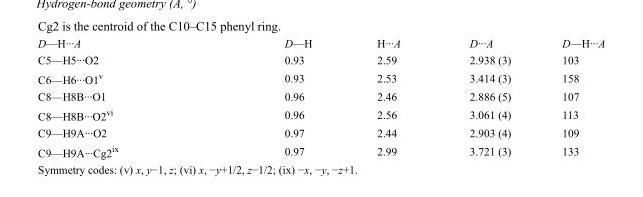table: (37, 36, 604, 158)
table column: (37, 36, 200, 158), (200, 36, 343, 158), (434, 36, 535, 158), (343, 36, 434, 158), (535, 36, 604, 158)
table row: (37, 67, 604, 87), (37, 104, 604, 124), (37, 140, 604, 158), (37, 87, 604, 104), (37, 51, 604, 67), (37, 124, 604, 140), (37, 36, 604, 51)
